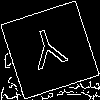Y: (25, 25, 72, 80)
